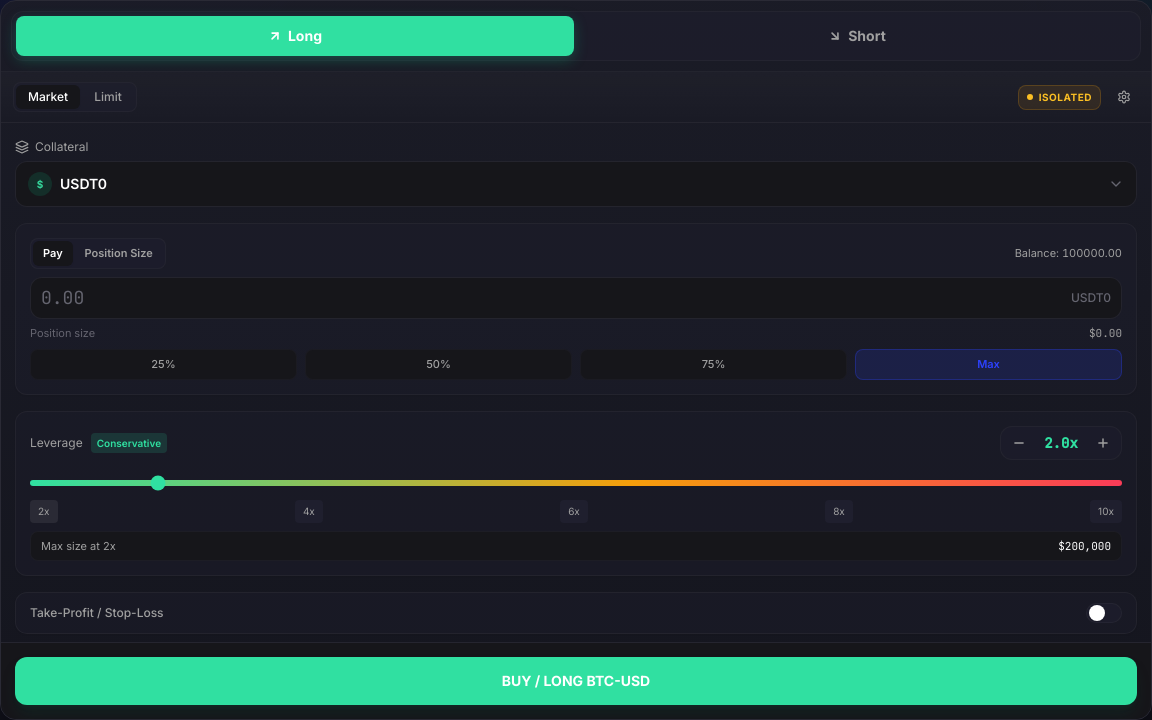
Test case: TradingForm risk and funding › shows neutral funding when rate is zero
The image size is (1152, 720).
Type "100" into the number field with test id "margin-input" at [552, 298], box [41,284,1063,312]
(page scrolled)
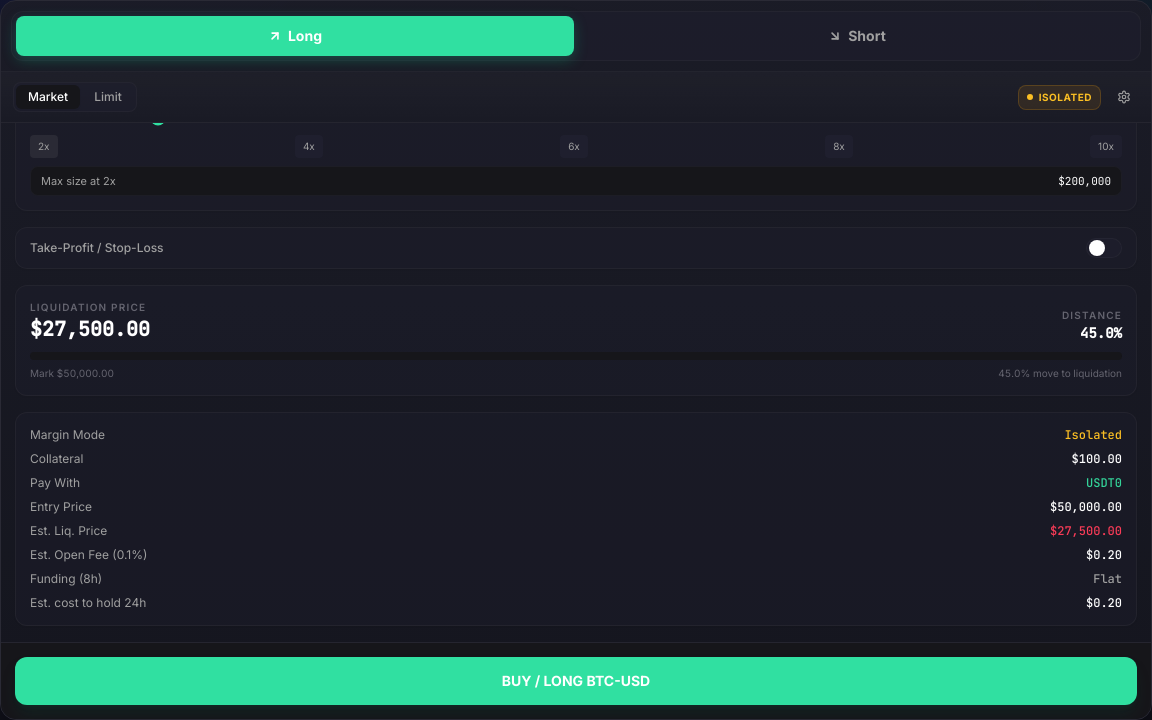
Result: the text "Flat" is shown at [1093,571,1122,587]
